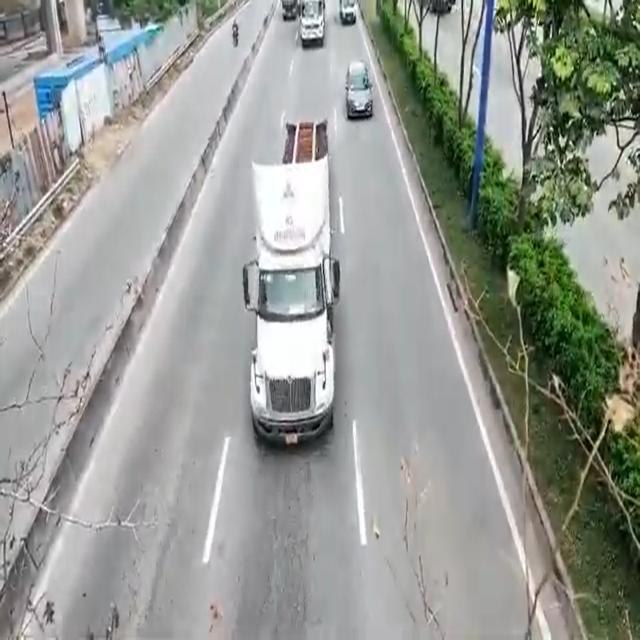car: (343, 62, 375, 117)
motor: (229, 15, 241, 56)
truck: (259, 117, 337, 447), (302, 3, 326, 46)
